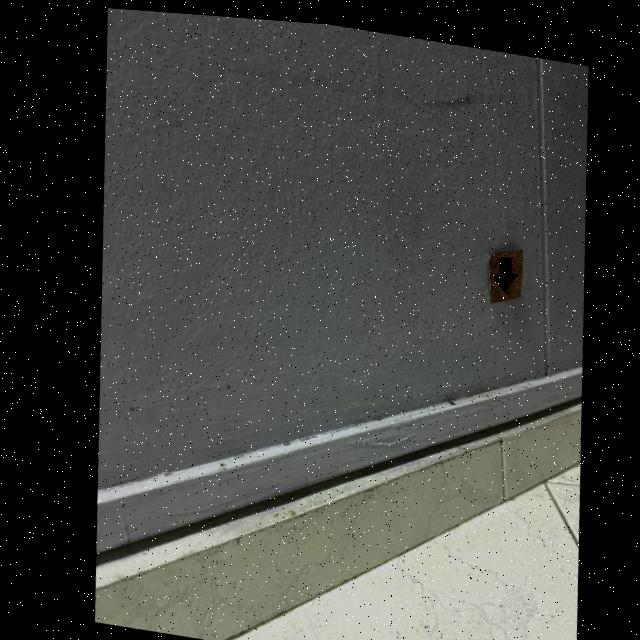DOWN: (490, 250, 513, 284)
